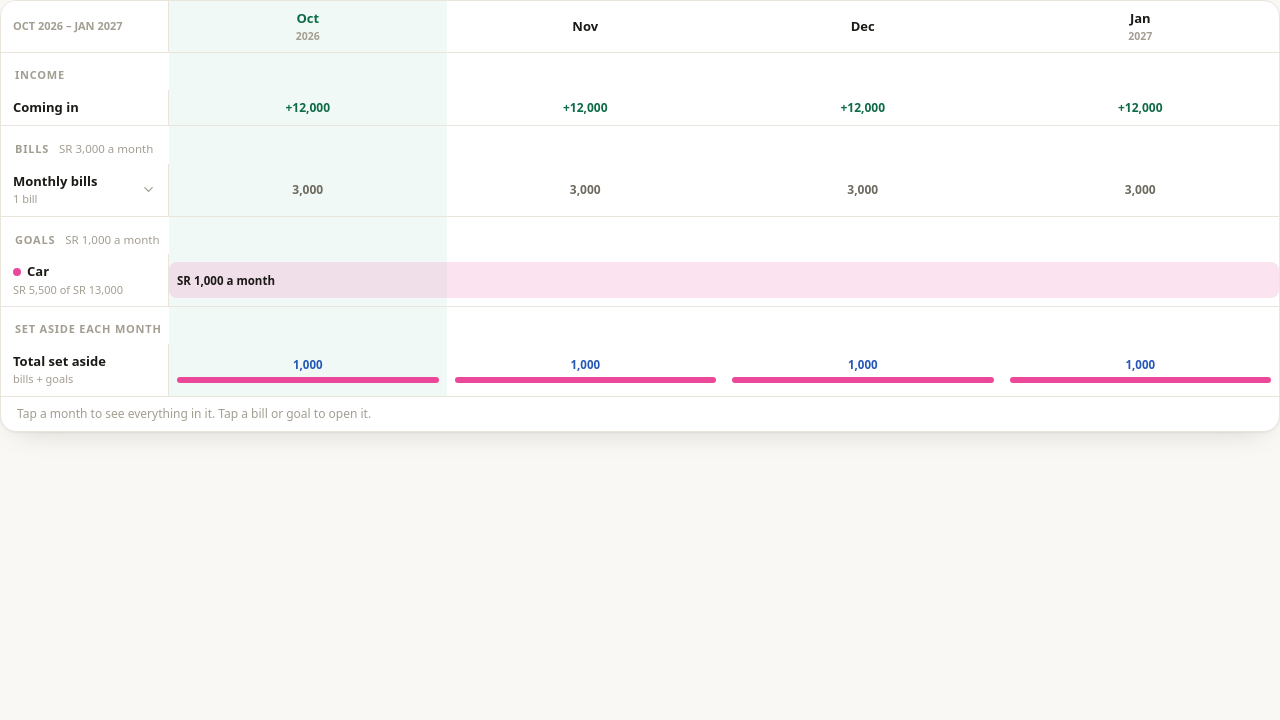
Scenario: year lanes › tints the header of the month whose popover is open
The width and height of the screenshot is (1280, 720).
Click the button "Nov": (585, 27) [446,1,724,52]
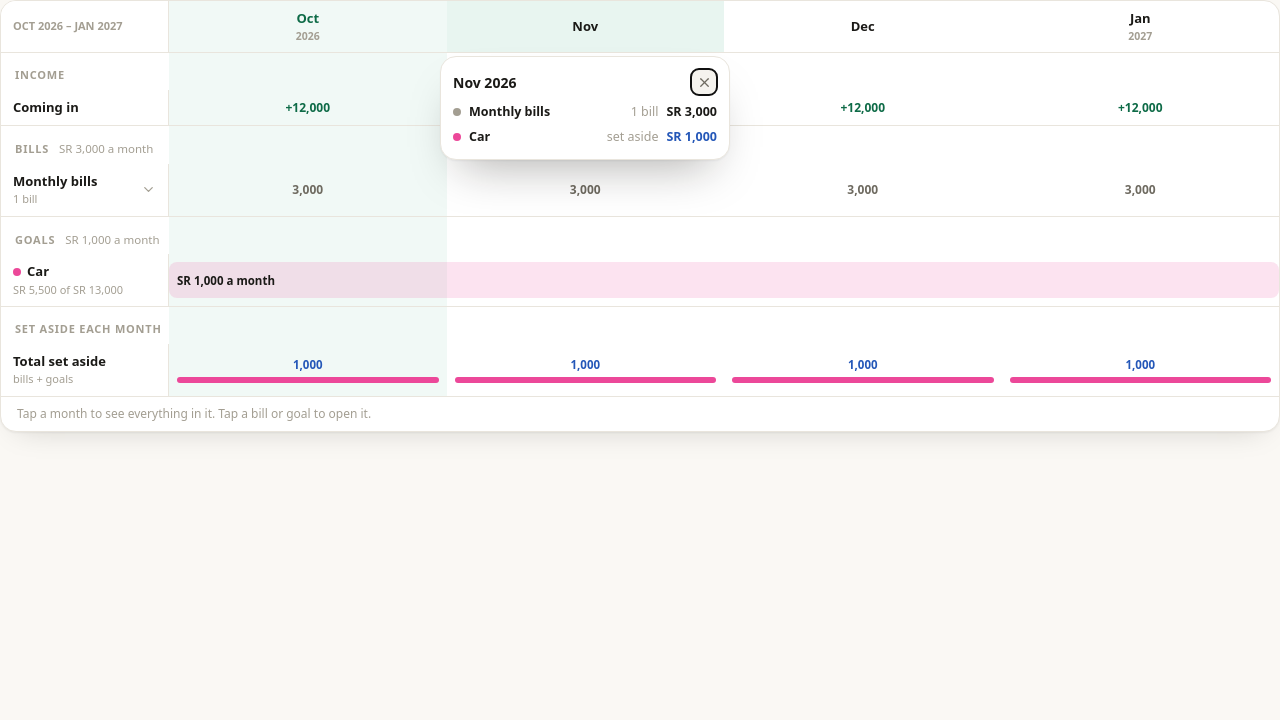
Now the text "Nov 2026" is shown, box [453,72,516,92]
